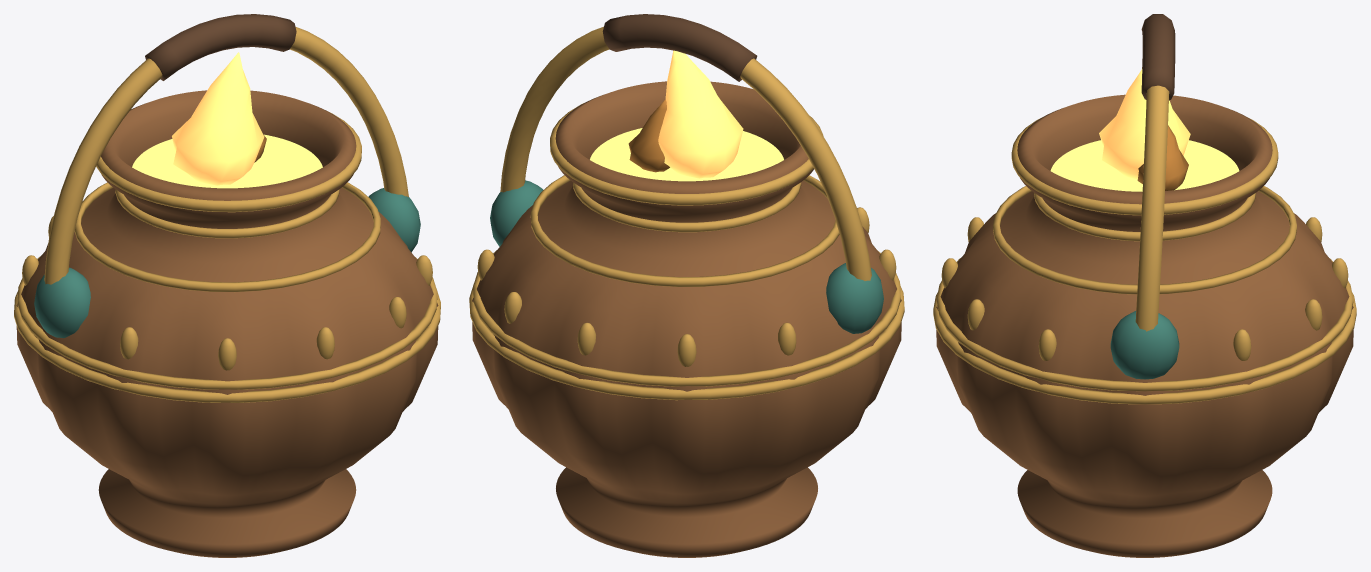
The model's file is rite-ember-vessel.glb.
3 views of the same model, side by side, from view 1: azimuth 30°, elevation 25°; view 2: azimuth 150°, elevation 25°; view 3: azimuth 270°, elevation 25° (orthographic). The views are drawn at different scales.
Parts seen in each view (by area): view 1: Ember vessel | repoussé belly, Swinging fire bail, Long sheltered ember, Turned brass band.002, Turned brass band.003, Wound carry grip, Turned brass band.004, Hot coal bed, Turned brass band.006, Handle lug, Turned brass band.005, Handle lug.001; view 2: Ember vessel | repoussé belly, Swinging fire bail, Long sheltered ember, Turned brass band.002, Turned brass band.003, Wound carry grip, Turned brass band.004, Hot coal bed, Turned brass band.006, Handle lug, Turned brass band.005, Handle lug.001 (+1 smaller); view 3: Ember vessel | repoussé belly, Swinging fire bail, Turned brass band.002, Turned brass band.003, Hot coal bed, Turned brass band.004, Long sheltered ember, Handle lug.001, Turned brass band.006, Wound carry grip, Turned brass band.005, Side flame.
Boxes of the visible parts, x1,y1,x2,y2 form: Ember vessel | repoussé belly: [16, 90, 438, 557]; Swinging fire bail: [44, 27, 408, 284]; Long sheltered ember: [172, 52, 264, 185]; Turned brass band.002: [14, 290, 440, 402]; Turned brass band.003: [17, 255, 437, 389]; Wound carry grip: [145, 14, 296, 80]; Turned brass band.004: [74, 182, 380, 292]; Hot coal bed: [132, 134, 322, 188]; Turned brass band.006: [96, 111, 361, 212]; Handle lug: [34, 267, 90, 338]; Turned brass band.005: [115, 189, 339, 238]; Handle lug.001: [368, 188, 420, 252]; Ember vessel | repoussé belly: [472, 81, 901, 557]; Swinging fire bail: [500, 26, 871, 280]; Long sheltered ember: [658, 50, 743, 178]; Turned brass band.002: [469, 285, 904, 400]; Turned brass band.003: [473, 250, 900, 386]; Wound carry grip: [602, 14, 757, 81]; Turned brass band.004: [530, 175, 839, 286]; Hot coal bed: [590, 128, 783, 181]; Turned brass band.006: [550, 103, 823, 205]; Handle lug: [826, 263, 883, 333]; Turned brass band.005: [573, 182, 801, 232]; Handle lug.001: [490, 180, 542, 246]; Ember vessel | repoussé belly: [936, 94, 1353, 557]; Swinging fire bail: [1135, 67, 1169, 331]; Turned brass band.002: [933, 292, 1356, 404]; Turned brass band.003: [936, 258, 1353, 391]; Hot coal bed: [1050, 140, 1239, 191]; Turned brass band.004: [993, 186, 1296, 294]; Long sheltered ember: [1099, 69, 1190, 179]; Handle lug.001: [1110, 311, 1179, 379]; Turned brass band.006: [1011, 118, 1278, 215]; Wound carry grip: [1141, 14, 1175, 100]; Turned brass band.005: [1034, 193, 1255, 241]; Side flame: [1137, 125, 1188, 190].
Size of the model in its own units: 0.368 by 0.4563 by 0.362.
